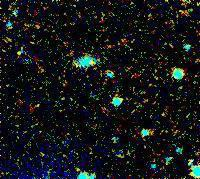star: (75, 49, 105, 79)
